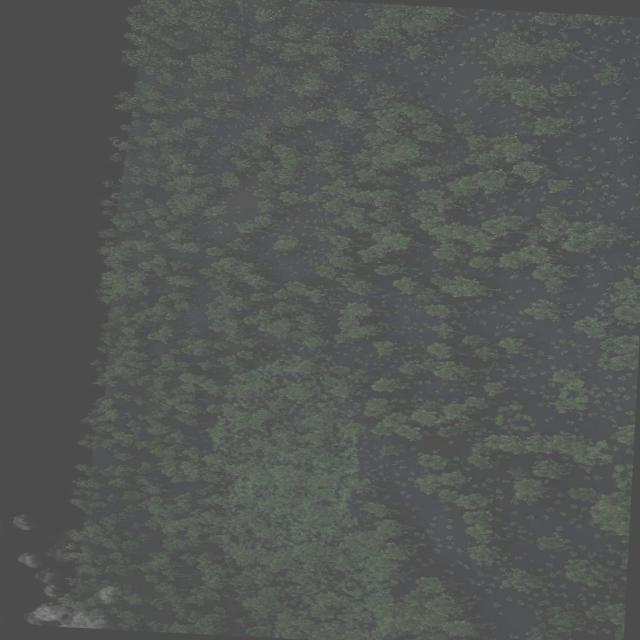smoke: (26, 581, 118, 630), (96, 584, 118, 603), (18, 550, 39, 566), (13, 514, 34, 529)
